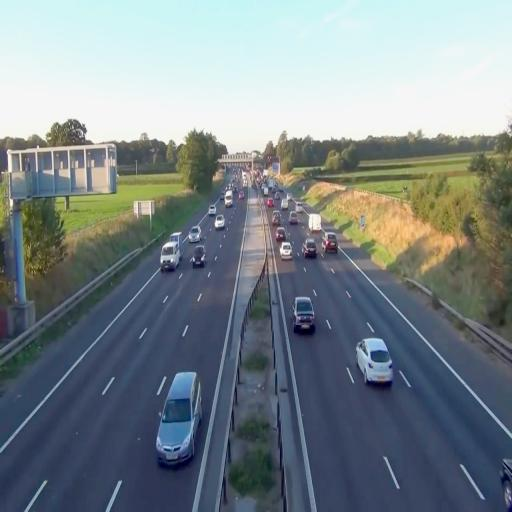vehicle: (156, 370, 202, 468), (356, 336, 394, 386), (292, 296, 316, 333), (160, 243, 180, 273), (323, 230, 339, 254), (304, 234, 317, 258), (192, 246, 206, 266), (280, 240, 292, 258), (214, 214, 226, 231)
